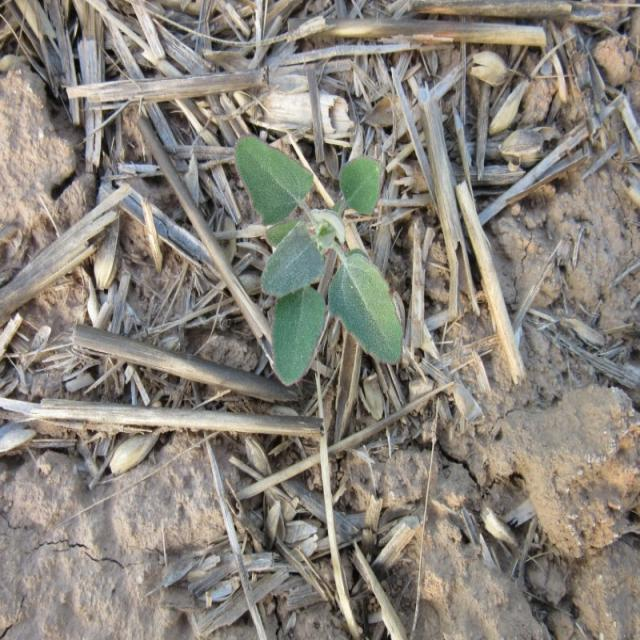ca: (234, 136, 407, 379)
